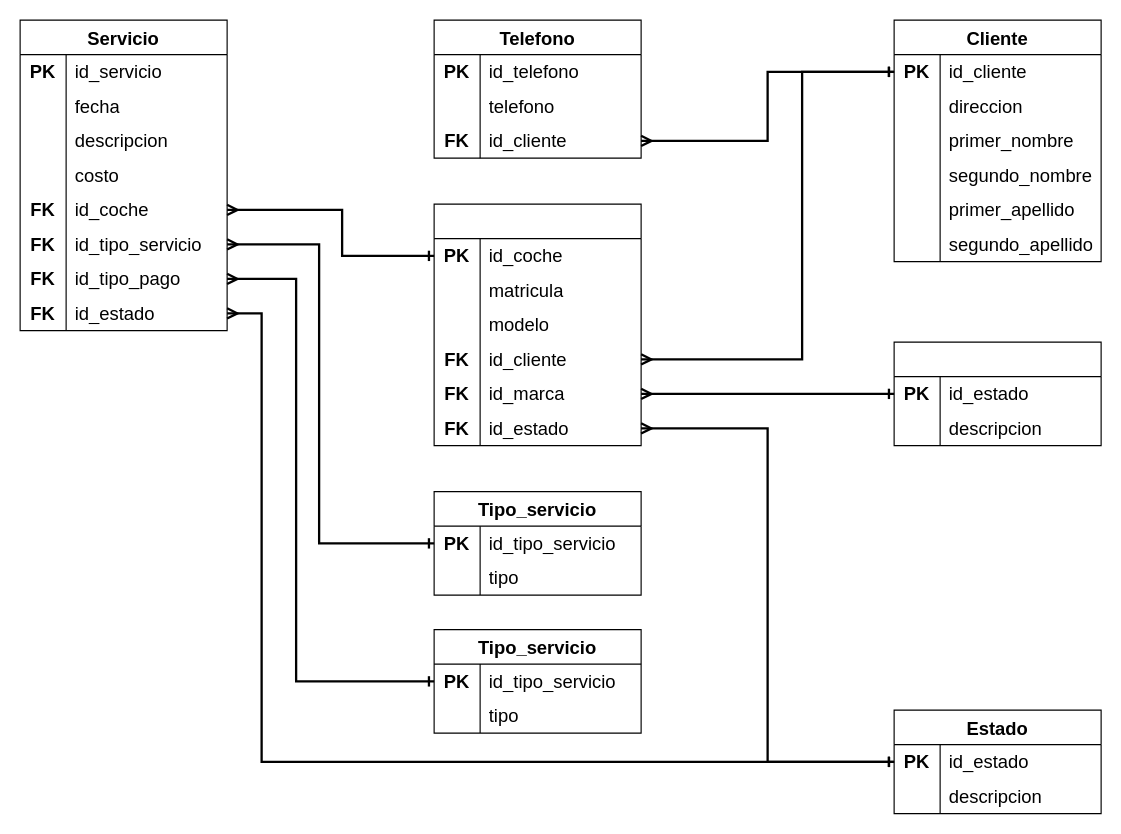
Image size: 1121x834. Some labels were removed from this diagram. The shapes that lost their labels are listed below. From the top down, each one's box as (x1, y1, x2, y2) in pixels, then its label:
(433, 203, 641, 446): Coches
(893, 341, 1101, 446): Marca
